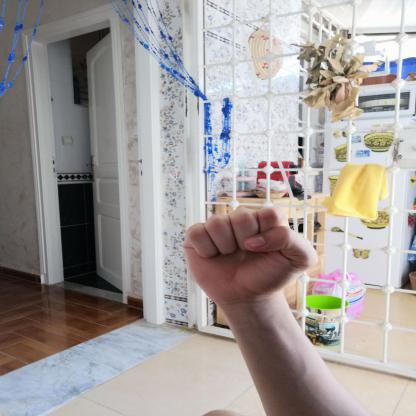SAD: (166, 198, 330, 321)
